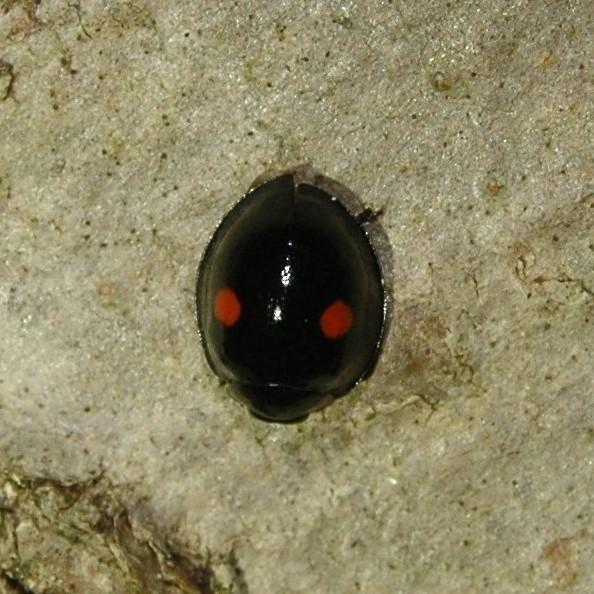ladybug: (193, 166, 394, 429)
